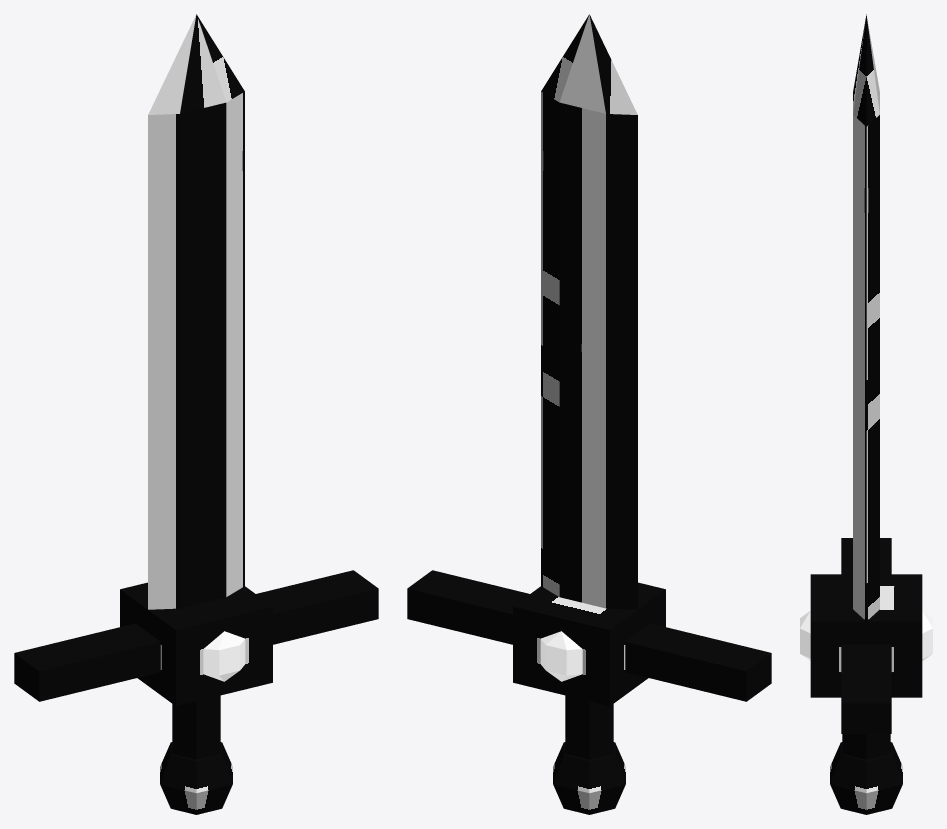
Rendered from sword.glb.
The picture shows the model from 3 angles, left to right: view 1: azimuth 30°, elevation 25°; view 2: azimuth 150°, elevation 25°; view 3: azimuth 270°, elevation 25°; orthographic projection.
Visible parts, largest first — view 1: blade, guard, guard_c, pommel, grip, gem; view 2: blade, guard, guard_c, pommel, grip, gem~z; view 3: blade, guard_c, guard, pommel, grip, gem, gem~z.
Boxes of the visible parts, x1,y1,x2,y2 form: blade: [148, 14, 244, 609]; guard: [14, 570, 378, 701]; guard_c: [120, 582, 272, 706]; pommel: [160, 742, 232, 814]; grip: [172, 695, 220, 759]; gem: [203, 631, 245, 681]; blade: [541, 14, 637, 609]; guard: [407, 570, 771, 701]; guard_c: [513, 582, 665, 706]; pommel: [553, 742, 625, 814]; grip: [565, 695, 613, 759]; gem~z: [540, 631, 582, 681]; blade: [853, 14, 879, 621]; guard_c: [810, 574, 922, 697]; guard: [841, 538, 891, 733]; pommel: [830, 742, 902, 814]; grip: [842, 734, 890, 759]; gem: [800, 611, 810, 660]; gem~z: [922, 611, 932, 660].
Bounding box in the file's own units: 0.875 × 1.97 × 0.2969.
Materials: 5 (5 with a texture image).
